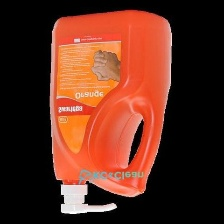cleaning_solution: (47, 5, 174, 217)
